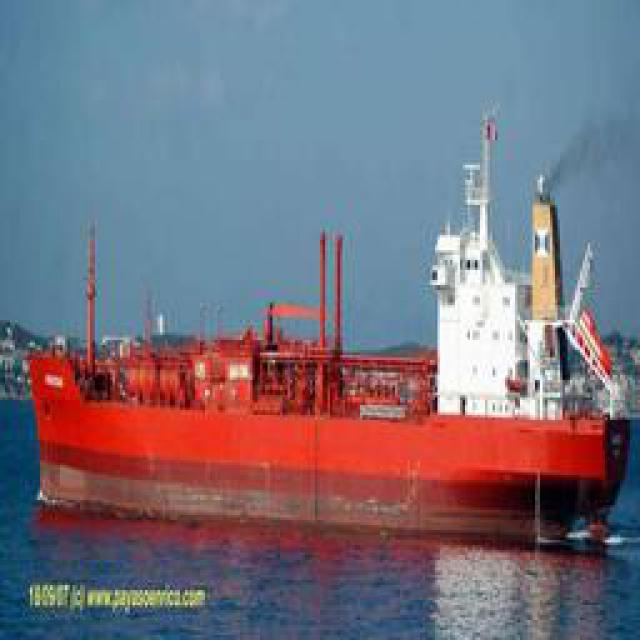Ship: (25, 142, 628, 542)
